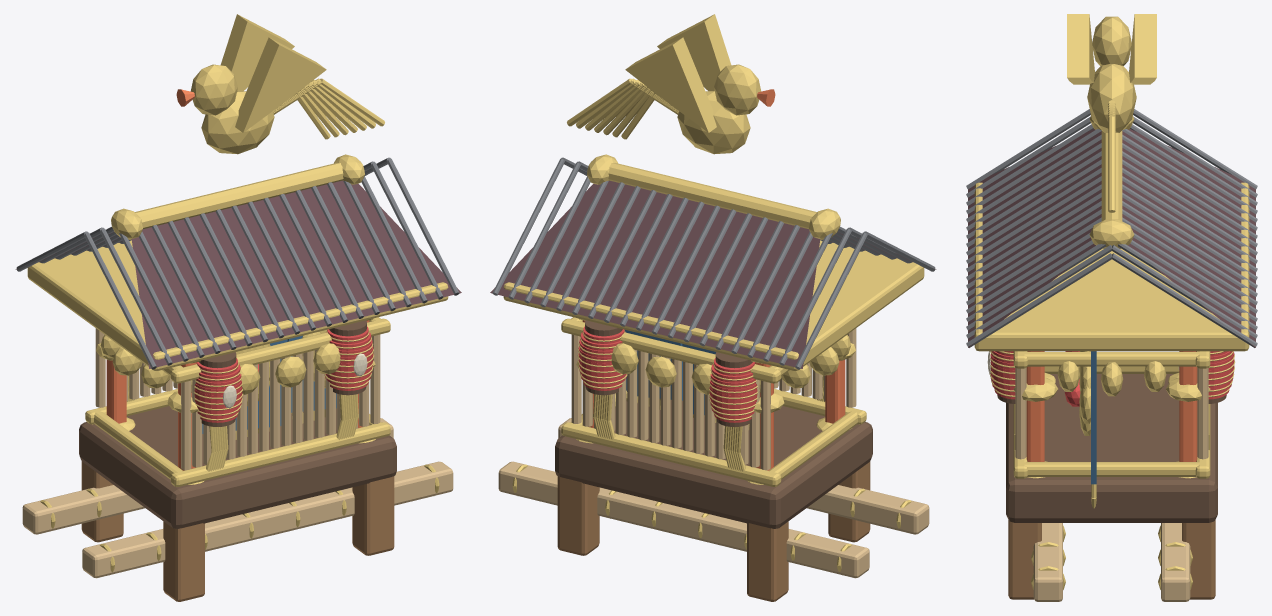
Rendered from matsuri_mikoshi_phoenix.glb.
3 views of the same model, side by side, from view 1: azimuth 30°, elevation 25°; view 2: azimuth 150°, elevation 25°; view 3: azimuth 270°, elevation 25° (orthographic). The views are drawn at different scales.
Parts seen in each view (by area): view 1: Festival shrine multi-tier roofing hipped roof, Heavy joined lacquered chassis, Festival shrine multi-tier roofing underedge, Side carrying beam, Festival shrine multi-tier roofing ridge, Roof gilded phoenix phoenix wing, Side carrying beam.001, Carved balustrade, Through-tenon oak support, Through-tenon oak support.002, Roof gilded phoenix torso, Roof gilded phoenix phoenix wing.001 (+41 smaller); view 2: Festival shrine multi-tier roofing hipped roof.001, Heavy joined lacquered chassis, Festival shrine multi-tier roofing underedge, Side carrying beam.001, Festival shrine multi-tier roofing ridge, Roof gilded phoenix phoenix wing.001, Side carrying beam, Carved balustrade.001, Through-tenon oak support.001, Through-tenon oak support.003, Roof gilded phoenix torso, Roof gilded phoenix phoenix wing (+41 smaller); view 3: Heavy joined lacquered chassis, Festival shrine multi-tier roofing underedge, Festival shrine multi-tier roofing hipped roof, Festival shrine multi-tier roofing hipped roof.001, Hand-carved transverse sill.001, Roof gilded phoenix torso, Hand-carved transverse sill.003, Through-tenon oak support.002, Through-tenon oak support.003, Side carrying beam, Side carrying beam.001, Roof gilded phoenix phoenix wing (+56 smaller).
Part boxes in pixels (left/top/right/bottom): Festival shrine multi-tier roofing hipped roof: left=131, top=180, right=461, bottom=368; Heavy joined lacquered chassis: left=79, top=406, right=396, bottom=528; Festival shrine multi-tier roofing underedge: left=27, top=240, right=448, bottom=370; Side carrying beam: left=82, top=461, right=453, bottom=578; Festival shrine multi-tier roofing ridge: left=135, top=163, right=343, bottom=228; Roof gilded phoenix phoenix wing: left=235, top=37, right=326, bottom=132; Side carrying beam.001: left=22, top=418, right=393, bottom=534; Carved balustrade: left=170, top=422, right=390, bottom=486; Through-tenon oak support: left=163, top=521, right=204, bottom=601; Through-tenon oak support.002: left=352, top=476, right=394, bottom=555; Roof gilded phoenix torso: left=201, top=91, right=274, bottom=154; Roof gilded phoenix phoenix wing.001: left=220, top=14, right=294, bottom=90; Festival shrine multi-tier roofing hipped roof.001: left=490, top=180, right=820, bottom=368; Heavy joined lacquered chassis: left=555, top=400, right=872, bottom=528; Festival shrine multi-tier roofing underedge: left=503, top=240, right=924, bottom=370; Side carrying beam.001: left=498, top=461, right=869, bottom=578; Festival shrine multi-tier roofing ridge: left=608, top=163, right=816, bottom=228; Roof gilded phoenix phoenix wing.001: left=625, top=37, right=716, bottom=132; Side carrying beam: left=558, top=418, right=929, bottom=534; Carved balustrade.001: left=561, top=422, right=781, bottom=486; Through-tenon oak support.001: left=747, top=521, right=788, bottom=601; Through-tenon oak support.003: left=557, top=476, right=599, bottom=555; Roof gilded phoenix torso: left=677, top=91, right=750, bottom=154; Roof gilded phoenix phoenix wing: left=657, top=14, right=731, bottom=90; Heavy joined lacquered chassis: left=1006, top=374, right=1217, bottom=522; Festival shrine multi-tier roofing underedge: left=974, top=182, right=1249, bottom=351; Festival shrine multi-tier roofing hipped roof: left=968, top=129, right=1101, bottom=347; Festival shrine multi-tier roofing hipped roof.001: left=1122, top=129, right=1255, bottom=347; Hand-carved transverse sill.001: left=1018, top=462, right=1205, bottom=476; Roof gilded phoenix torso: left=1087, top=64, right=1136, bottom=132; Hand-carved transverse sill.003: left=1018, top=352, right=1205, bottom=366; Through-tenon oak support.002: left=1008, top=520, right=1041, bottom=599; Through-tenon oak support.003: left=1182, top=520, right=1215, bottom=599; Side carrying beam: left=1033, top=523, right=1062, bottom=601; Side carrying beam.001: left=1161, top=523, right=1190, bottom=601; Roof gilded phoenix phoenix wing: left=1067, top=14, right=1094, bottom=84.
Size of the model in its own units: 1.45 by 1.95 by 0.9529.
